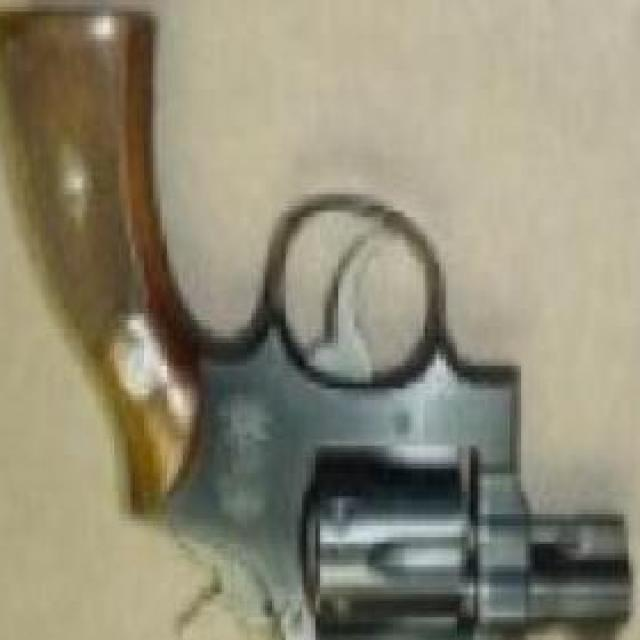pistol: (0, 11, 631, 640)
